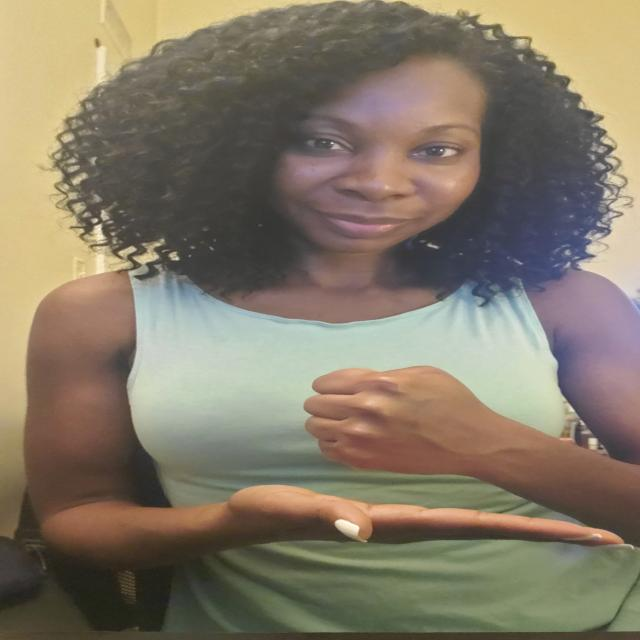Rock: (298, 358, 496, 486)
